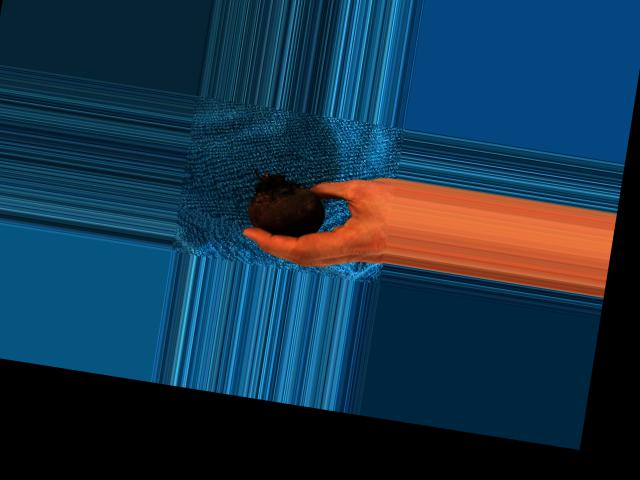beet: (244, 168, 329, 240)
